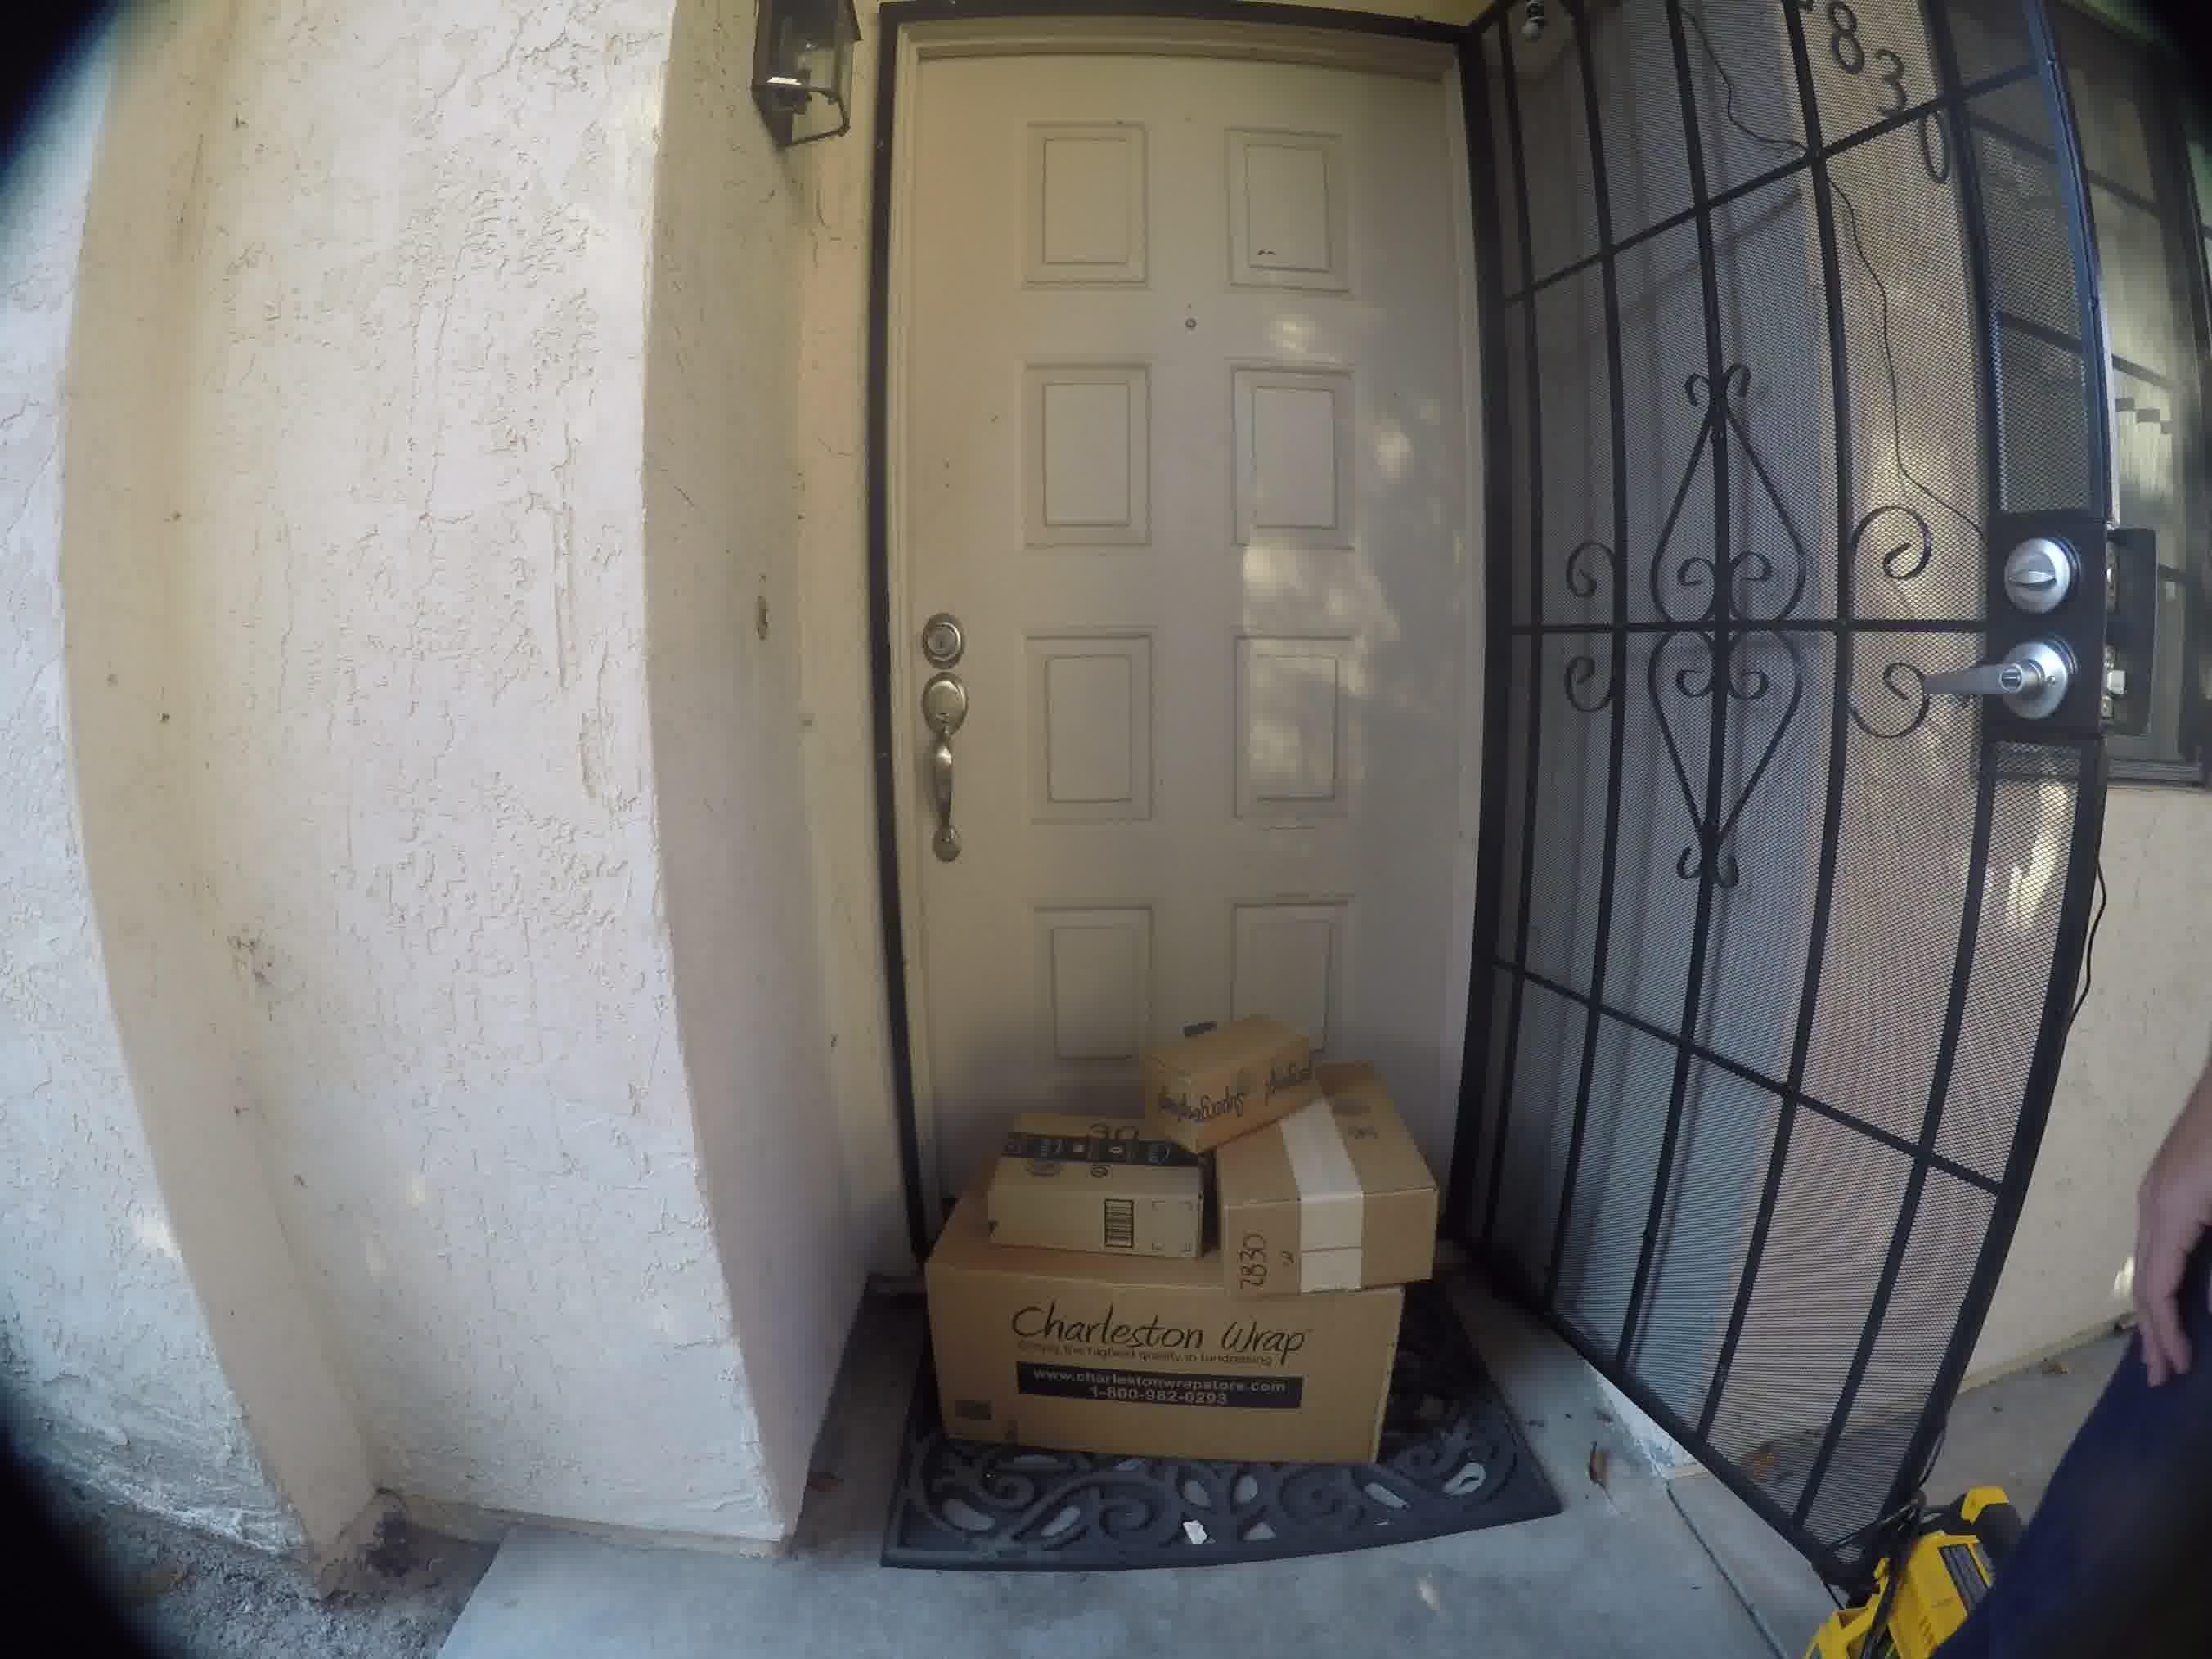box: (928, 1267, 1404, 1490), (1216, 1129, 1463, 1260), (982, 1110, 1186, 1234), (1146, 1019, 1317, 1143)
